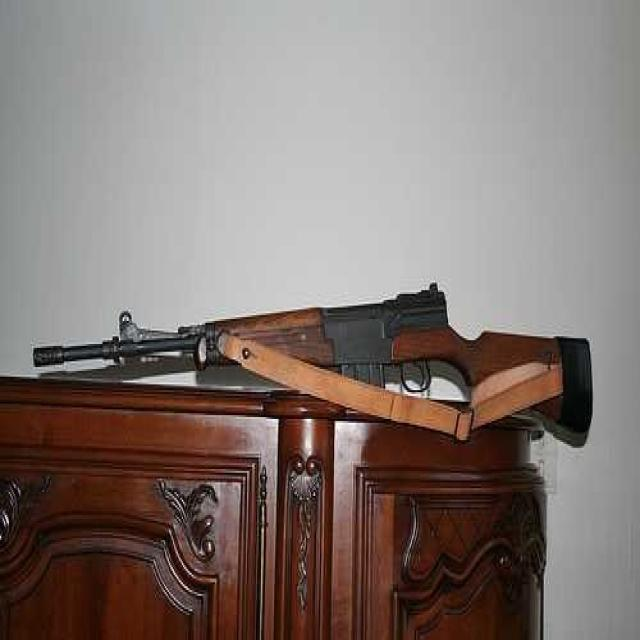heavyweapon: (21, 265, 622, 486)
